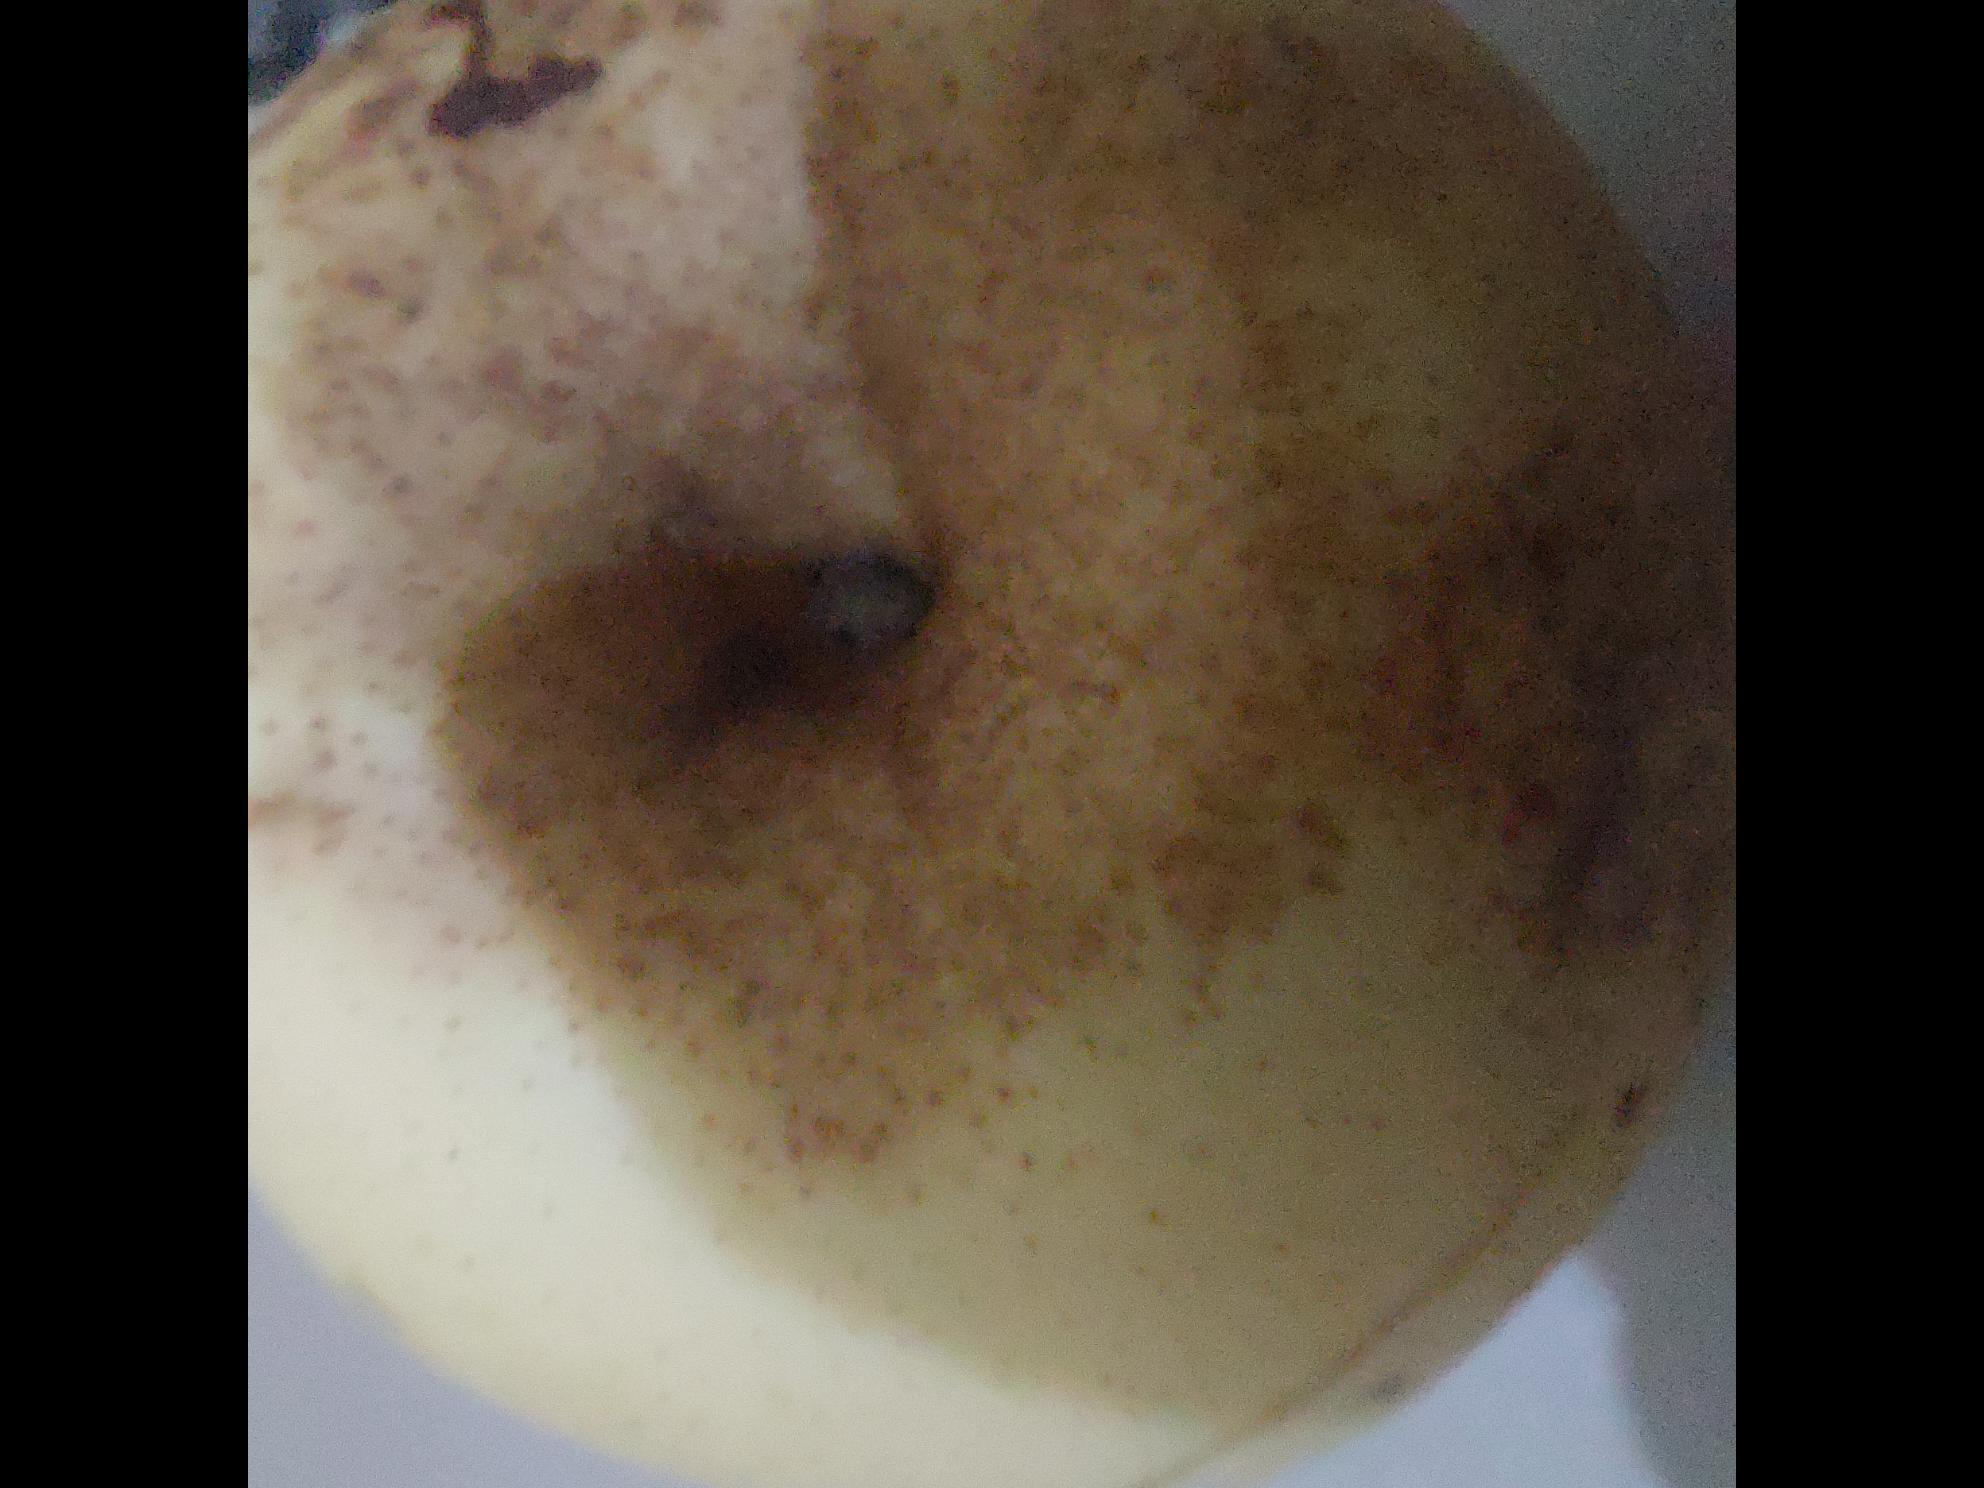Bad Pear: (248, 0, 1736, 1488)
